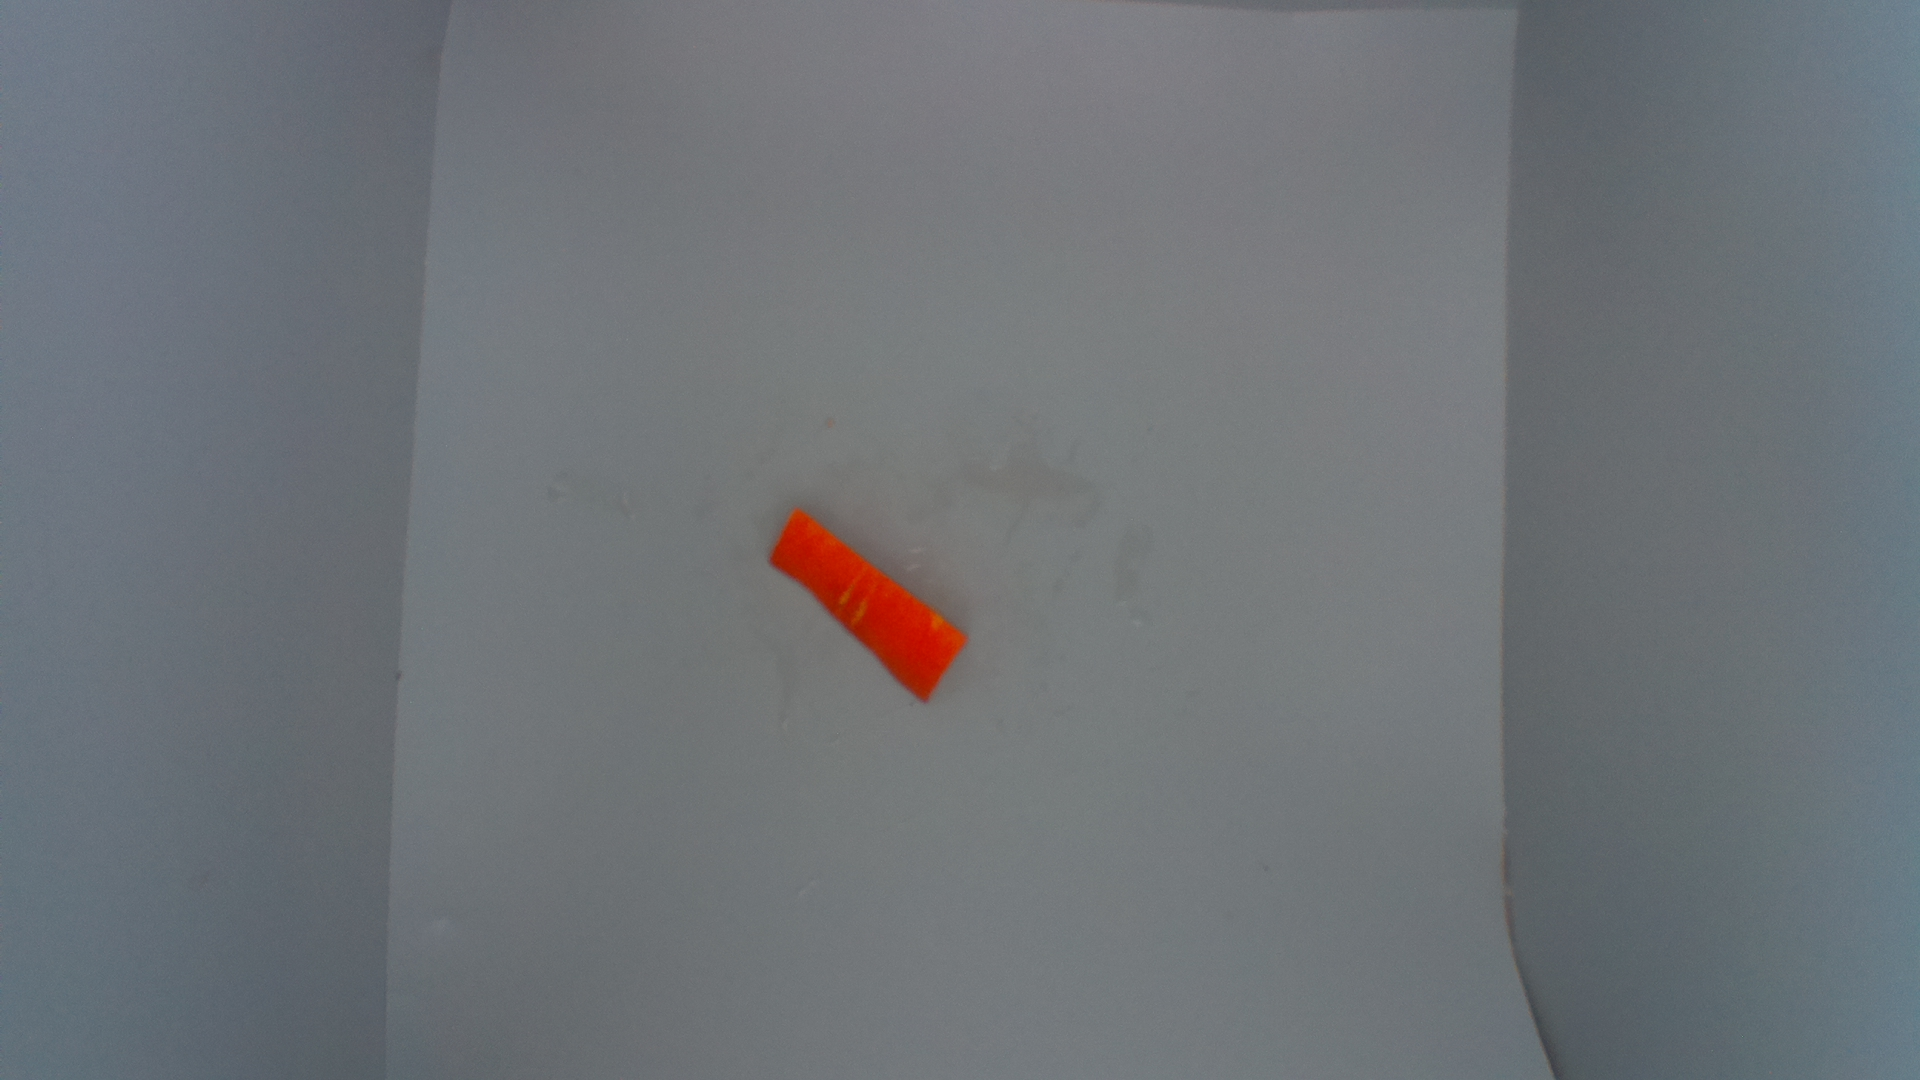carrot: (766, 508, 967, 709)
